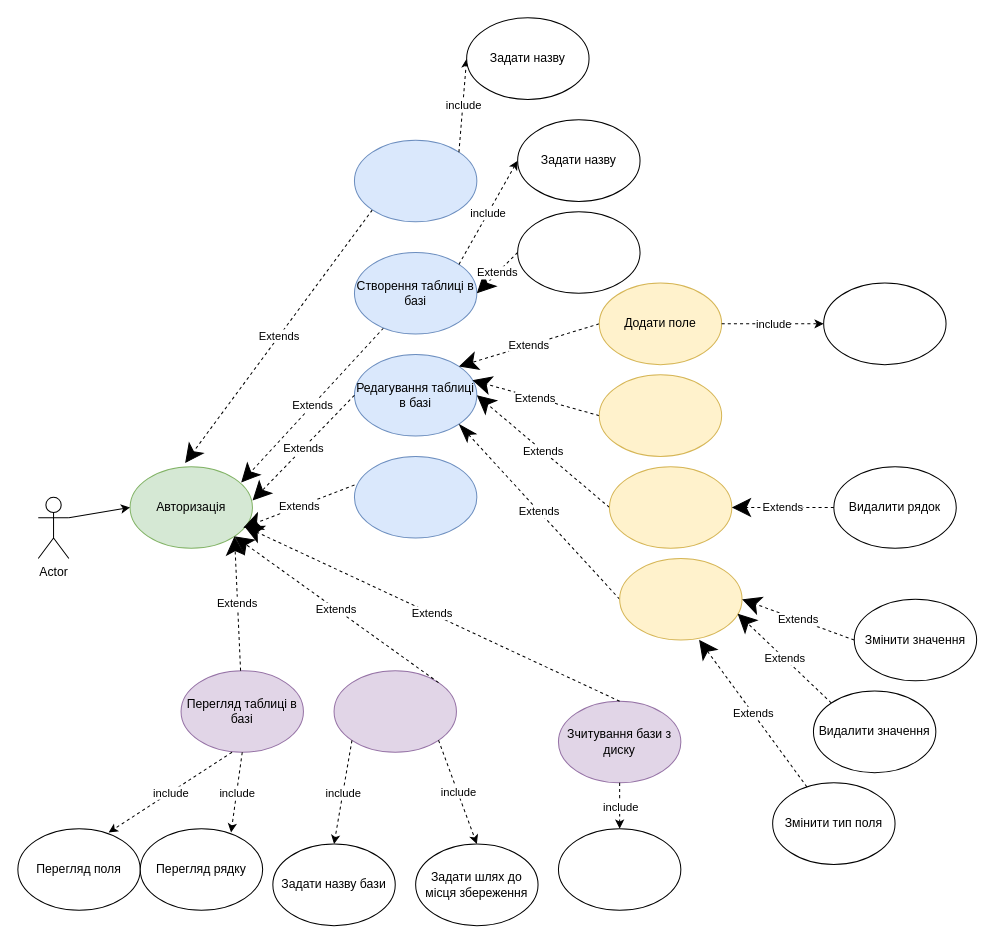
Image size: 995x944. Some labels were removed from this diagram. The shapes that lost their labels are listed below. From the top down, each one's centre as x and y in pixels, then its label:
the point at 415,180: Створення бази даних
the point at 578,252: Різниця таблиць
the point at 884,323: Задати тип
the point at 660,415: Додати рядок
the point at 415,496: Видалення таблиці з бази
the point at 670,507: Редагувати рядок
the point at 680,598: Редагування поля
the point at 394,711: Збереження бази на диск
the point at 619,869: Задати шлях до бази
